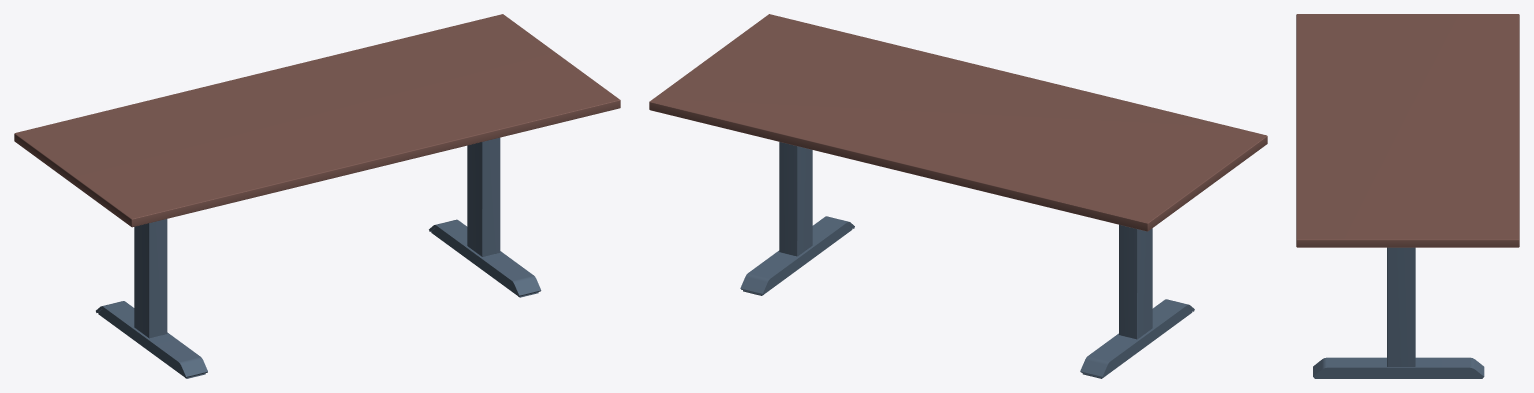
Rendered from DeskWithLegs.fbx.
The picture shows the model from 3 angles, left to right: view 1: azimuth 30°, elevation 25°; view 2: azimuth 150°, elevation 25°; view 3: azimuth 270°, elevation 25°; orthographic projection. The views are drawn at different scales.
Visible parts, largest first — view 1: Desk; view 2: Desk; view 3: Desk.
Part boxes in pixels (left/top/right/bottom): Desk: left=14, top=14, right=620, bottom=378; Desk: left=649, top=14, right=1267, bottom=378; Desk: left=1296, top=14, right=1519, bottom=378.
Bounding box in the file's own units: 2.08 × 0.7436 × 0.8691.
